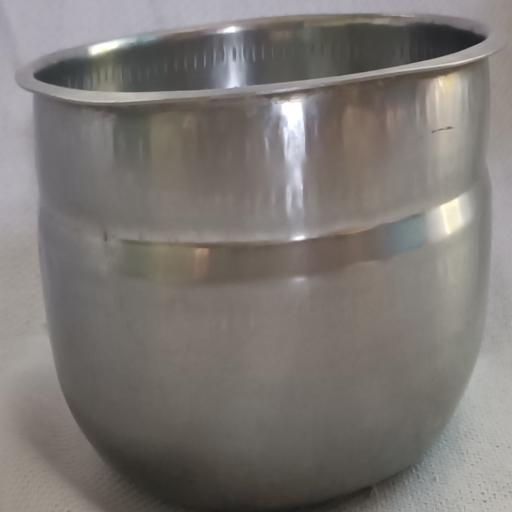vessel: (17, 15, 501, 510)
